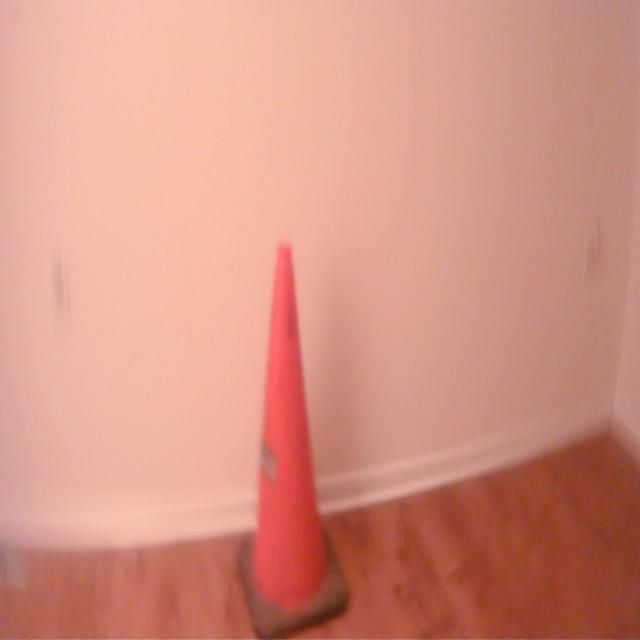traffic cone: (235, 237, 357, 640)
